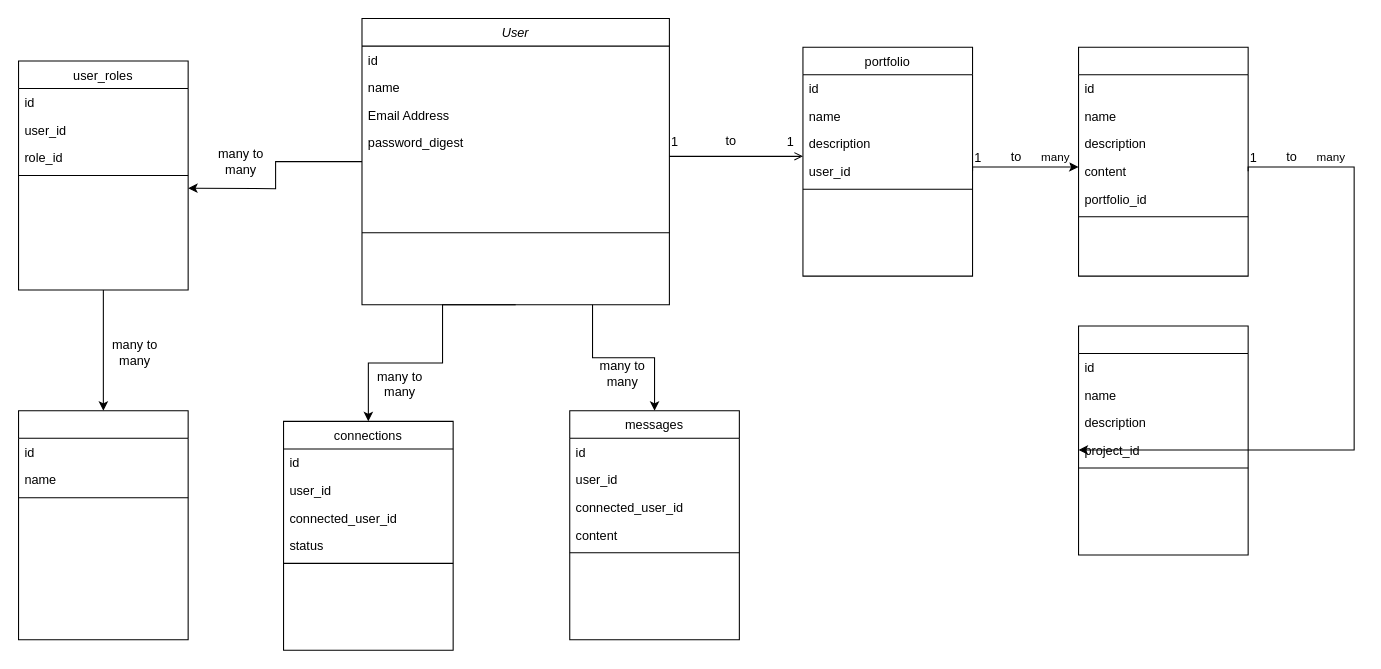
Some shapes in this 1381 by 669 pixel diagram are drawn without their labels. Here are the shapes that lost their labels. From the top down, the box of each, then its label:
(1077, 46, 1248, 276): projects
(1077, 325, 1248, 555): photo
(17, 410, 188, 640): roles
